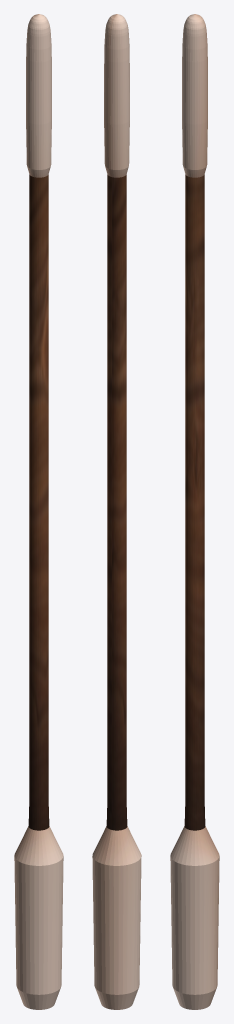
The model's file is trommel stock.fbx.
3 renders of one model, left to right at view 1: azimuth 90°, elevation 25°; view 2: azimuth 150°, elevation 25°; view 3: azimuth 270°, elevation 25°, orthographic.
Parts seen in each view (by area): view 1: Cylinder.002; view 2: Cylinder.002; view 3: Cylinder.002.
Boxes of the visible parts, x1,y1,x2,y2 form: Cylinder.002: (14,14,63,1009); Cylinder.002: (92,14,141,1009); Cylinder.002: (170,14,219,1009).
Bounding box in the file's own units: 21.1 × 471 × 21.1.
